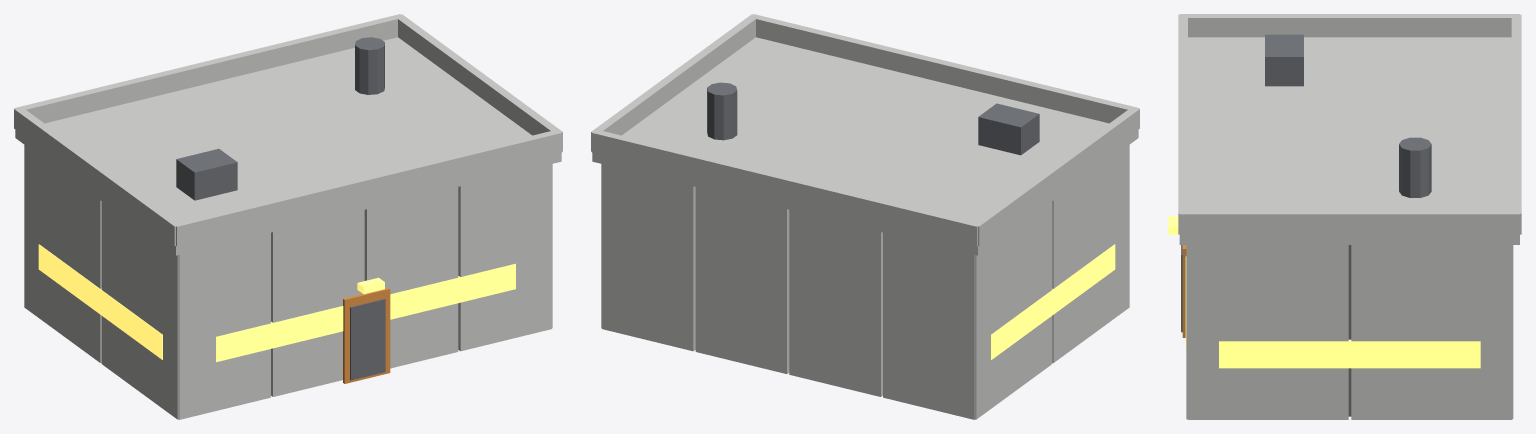
The model's file is B_directors_house.glb.
3 renders of one model, left to right at view 1: azimuth 30°, elevation 25°; view 2: azimuth 150°, elevation 25°; view 3: azimuth 270°, elevation 25°, orthographic. The views are drawn at different scales.
Visible parts, largest first — view 1: Cube.020, Cube.003, Cube, Cube.001, Cube.002, Cube.008, Cube.009, Cube.021, Cube.022, Cube.017, Cube.023, Cube.024 (+5 smaller); view 2: Cube.020, Cube.006, Cube.007, Cube.005, Cube.004, Cube.009, Cube.008, Cube.022, Cube.021, Cube.023, Cube.024, Cube.019 (+2 smaller); view 3: Cube.020, Cube.010, Cube.011, Cube.024, Cube.023, Cube.018, Cube.022, Cube.025, Cube.021, Cylinder, Cube.012, Cube.014 (+2 smaller).
Part boxes in pixels (x1,y1,x2,y2): Cube.020: [15, 37, 561, 255]; Cube.003: [458, 164, 551, 351]; Cube: [178, 232, 270, 419]; Cube.001: [271, 210, 364, 396]; Cube.002: [364, 187, 458, 368]; Cube.008: [101, 201, 178, 419]; Cube.009: [24, 145, 101, 362]; Cube.021: [172, 130, 562, 246]; Cube.022: [14, 14, 403, 123]; Cube.017: [216, 263, 515, 362]; Cube.023: [14, 107, 180, 245]; Cube.024: [394, 14, 562, 151]; Cube.020: [592, 37, 1138, 255]; Cube.006: [695, 187, 789, 373]; Cube.007: [602, 164, 695, 351]; Cube.005: [789, 210, 882, 396]; Cube.004: [883, 232, 975, 419]; Cube.009: [975, 201, 1052, 419]; Cube.008: [1052, 145, 1129, 362]; Cube.022: [591, 129, 981, 246]; Cube.021: [750, 14, 1139, 123]; Cube.023: [972, 107, 1139, 245]; Cube.024: [591, 14, 759, 151]; Cube.019: [991, 244, 1115, 359]; Cube.020: [1179, 37, 1519, 244]; Cube.010: [1187, 245, 1348, 419]; Cube.011: [1351, 245, 1511, 419]; Cube.024: [1179, 210, 1519, 235]; Cube.023: [1179, 14, 1519, 37]; Cube.018: [1219, 339, 1480, 368]; Cube.022: [1511, 14, 1521, 234]; Cube.025: [1265, 34, 1303, 86]; Cube.021: [1178, 14, 1187, 234]; Cylinder: [1399, 137, 1431, 197]; Cube.012: [1348, 245, 1351, 416]; Cube.014: [1182, 245, 1186, 337].
Bounding box in the file's own units: 14.5 × 8.1 × 10.8.
